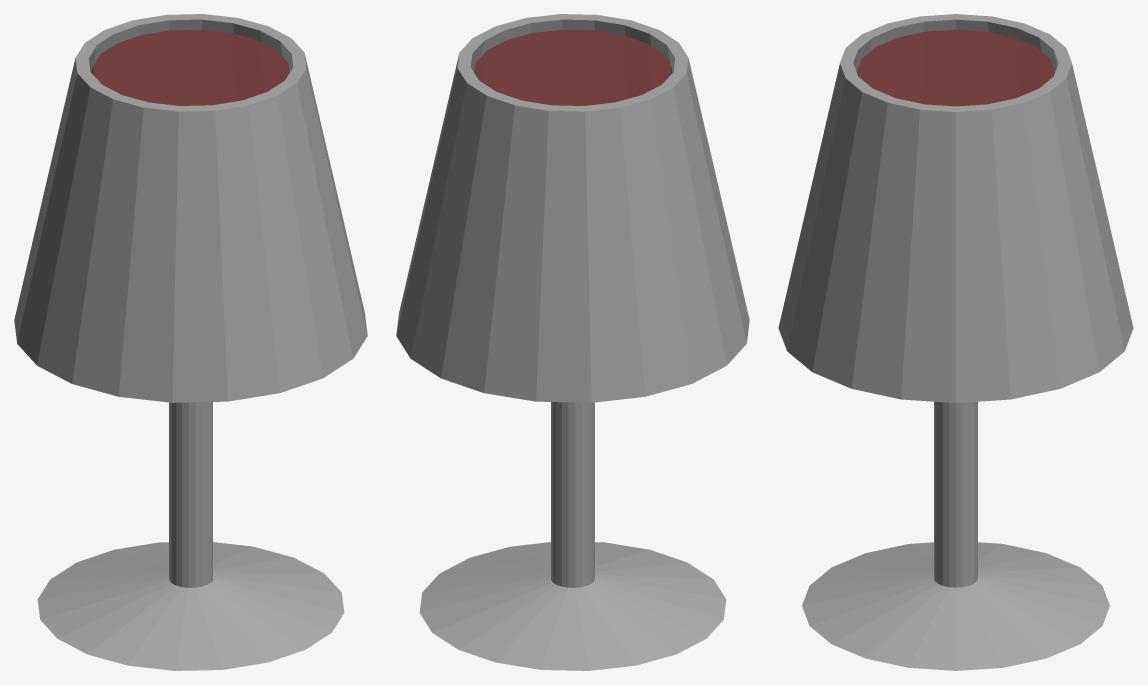
Rendered from Wine.fbx.
3 renders of one model, left to right at view 1: azimuth 30°, elevation 25°; view 2: azimuth 150°, elevation 25°; view 3: azimuth 270°, elevation 25°, orthographic.
Visible parts, largest first — view 1: pCylinder1; view 2: pCylinder1; view 3: pCylinder1.
Boxes of the visible parts, bbox=[...] form: pCylinder1: bbox=[14, 14, 367, 670]; pCylinder1: bbox=[396, 14, 749, 670]; pCylinder1: bbox=[778, 14, 1133, 670].
Bounding box in the file's own units: 2.31 × 3.89 × 2.31.
